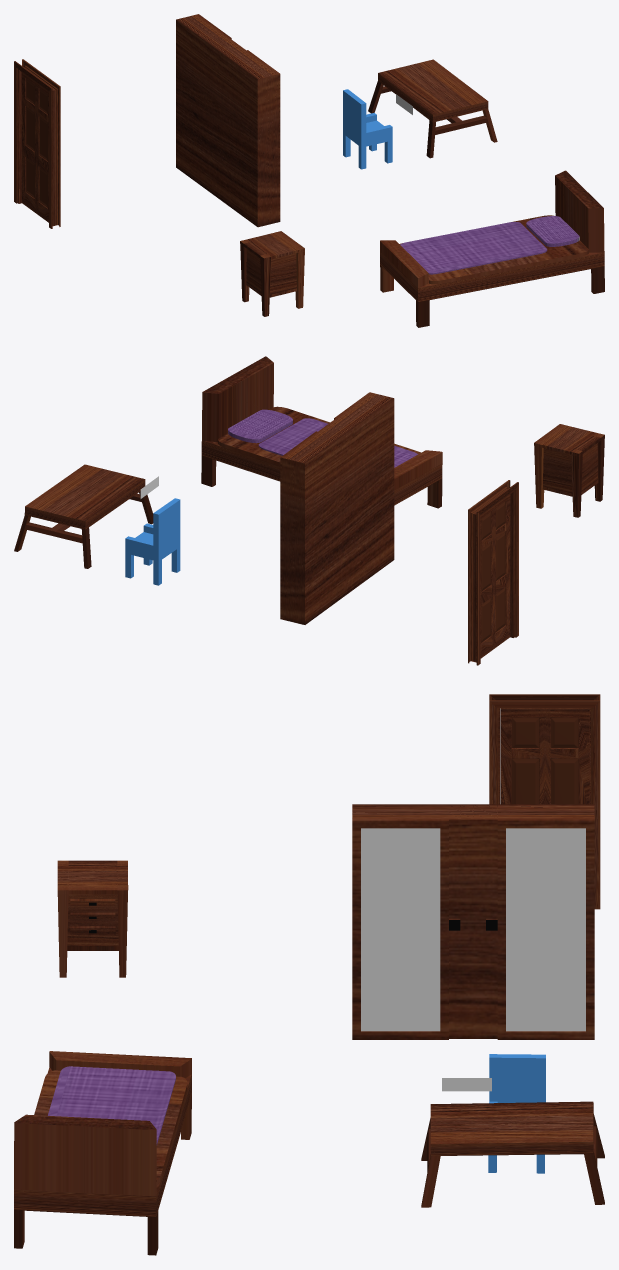
Rendered from duy22.glb.
The picture shows the model from 3 angles, top to bottom: view 1: azimuth 30°, elevation 25°; view 2: azimuth 150°, elevation 25°; view 3: azimuth 270°, elevation 25°; orthographic projection. The views are drawn at different scales.
Visible parts, largest first — view 1: closet, bed, basic_door, Cube, small chest, chair; view 2: closet, bed, basic_door, Cube, small chest, chair; view 3: bed, closet, kinh tu, kinh tu 1, basic_door, Cube, small chest, chair.
Boxes of the visible parts, x1,y1,x2,y2 form: closet: (176, 14, 280, 227); bed: (380, 170, 604, 327); basic_door: (14, 59, 60, 228); Cube: (368, 59, 497, 158); small chest: (240, 231, 304, 316); chair: (343, 89, 392, 169); closet: (280, 392, 394, 624); bed: (201, 356, 442, 508); basic_door: (468, 480, 518, 665); Cube: (14, 464, 153, 568); small chest: (534, 424, 604, 517); chair: (125, 498, 180, 585); bed: (14, 1051, 191, 1255); closet: (352, 804, 594, 1039); kinh tu: (506, 828, 585, 1031); kinh tu 1: (361, 828, 440, 1031); basic_door: (489, 694, 600, 909); Cube: (421, 1101, 604, 1207); small chest: (57, 860, 128, 977); chair: (488, 1054, 545, 1173).
Size of the model in its own units: 130 by 55.09 by 106.
Materials: 10 (5 with a texture image).
